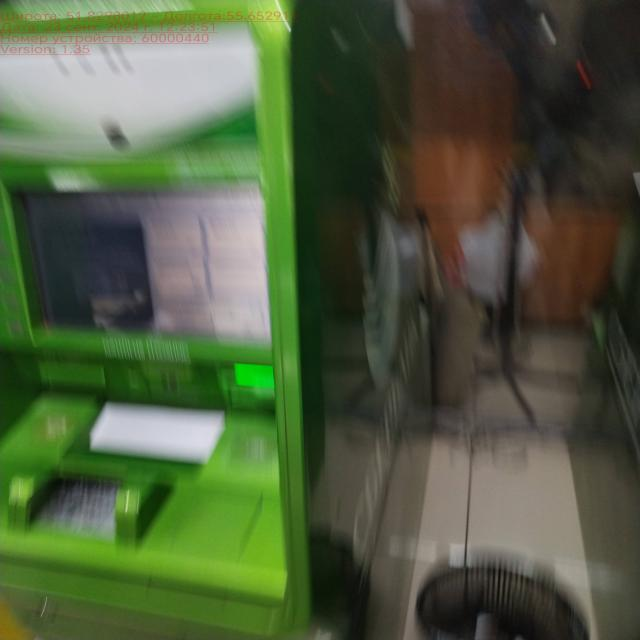bank: (0, 0, 435, 640)
